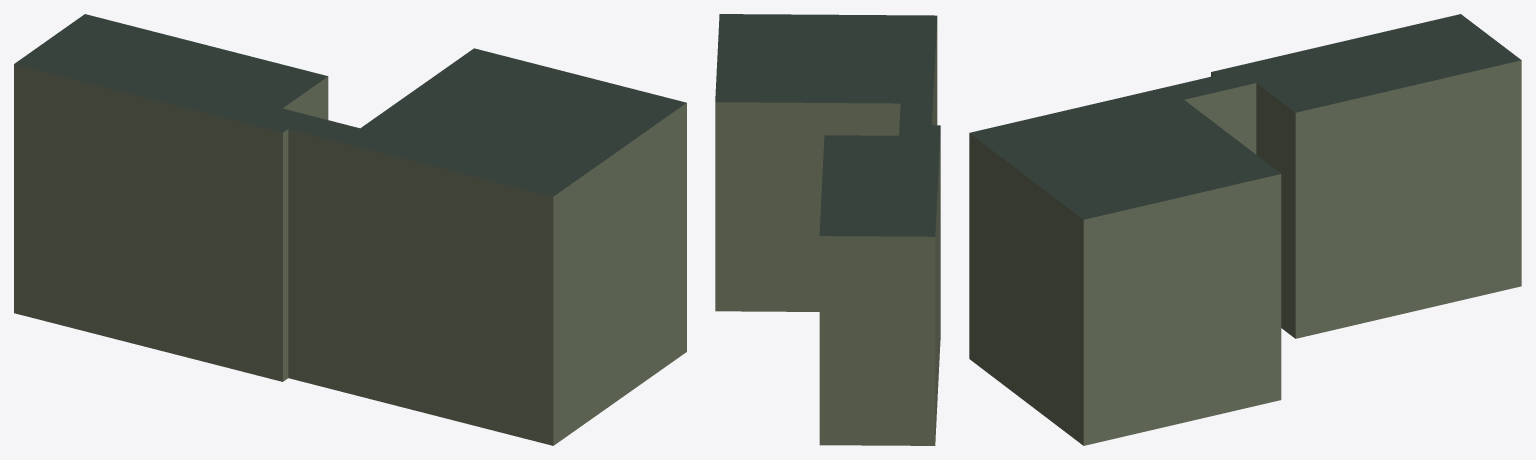
File: nyc-1080744-0.glb
3 renders of one model, left to right at view 1: azimuth 30°, elevation 25°; view 2: azimuth 150°, elevation 25°; view 3: azimuth 270°, elevation 25°, orthographic. The views are drawn at different scales.
Visible parts, largest first — view 1: nyc-1080744-0; view 2: nyc-1080744-0; view 3: nyc-1080744-0.
Boxes of the visible parts, x1,y1,x2,y2 form: nyc-1080744-0: [14, 14, 686, 445]; nyc-1080744-0: [715, 14, 940, 445]; nyc-1080744-0: [969, 14, 1521, 445].
Size of the model in its own units: 51.96 by 26.61 by 58.92.
